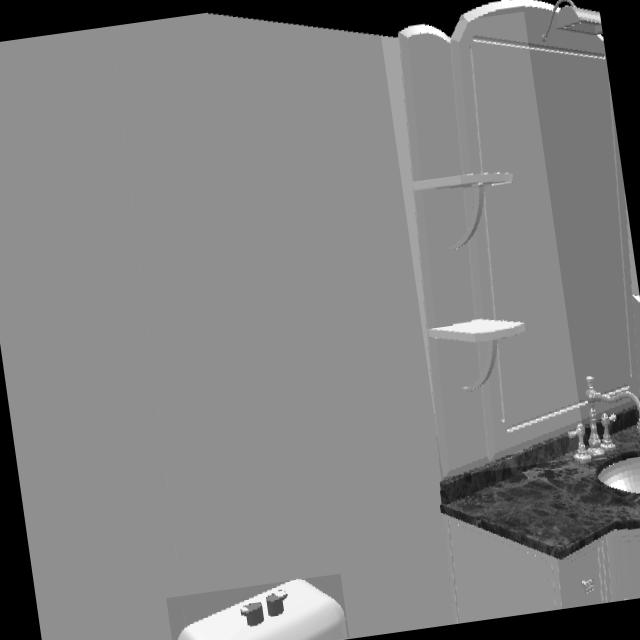shelf: (398, 26, 580, 477)
toilet: (178, 580, 350, 640)
washbasin: (598, 455, 640, 498)
